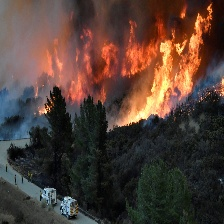fire: (113, 10, 214, 129), (42, 24, 144, 91), (35, 102, 57, 116)
smoke: (1, 1, 75, 78)
